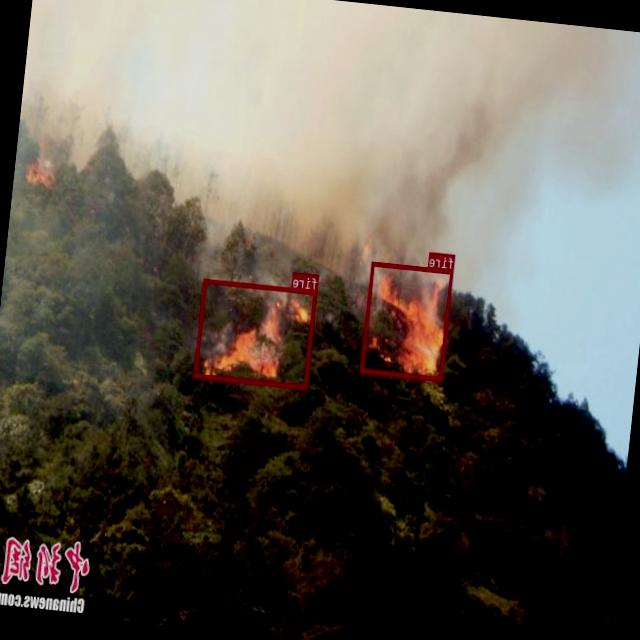fire: (194, 277, 317, 388), (361, 260, 454, 380)
